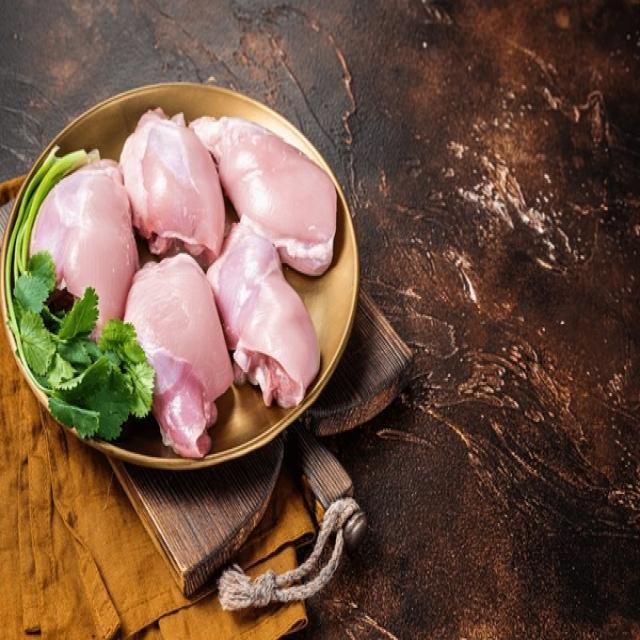thigh: (196, 100, 360, 272), (103, 258, 235, 448), (208, 222, 349, 382), (123, 104, 228, 264)
